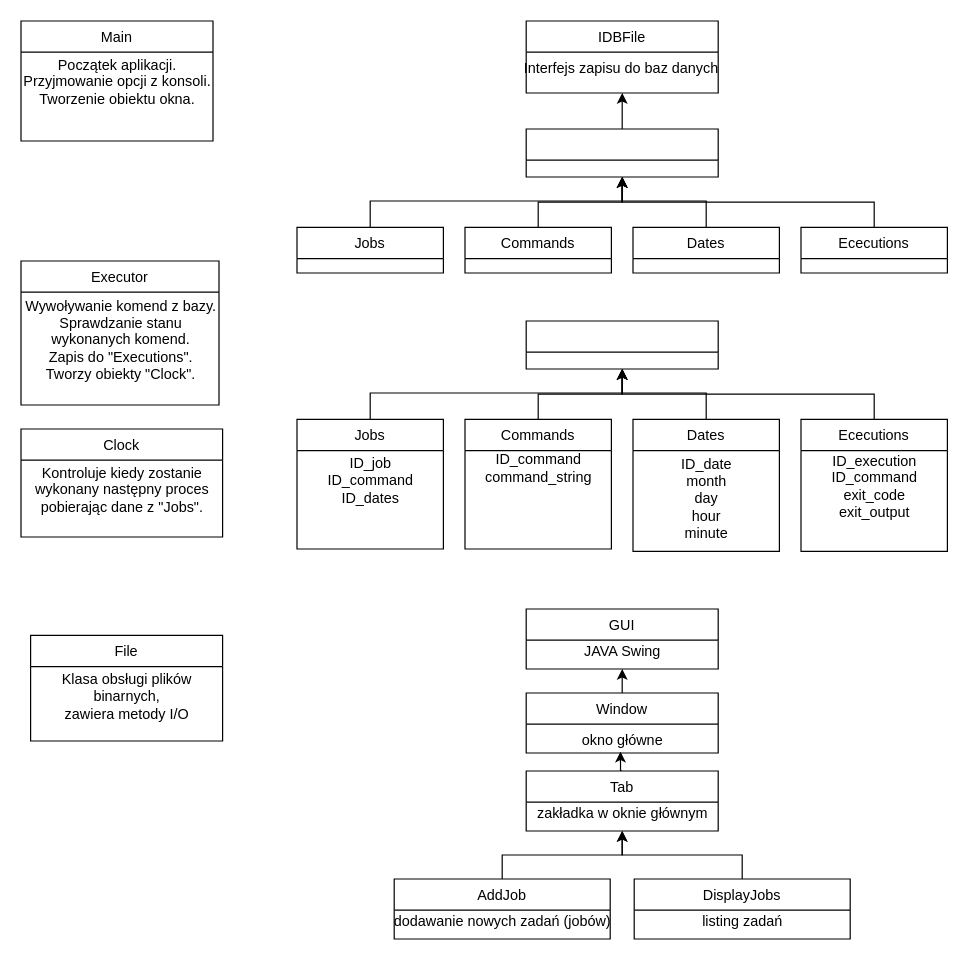
Some shapes in this 968 by 960 pixel diagram are drawn without their labels. Each missing label, with the centre of its shape:
DB: pixel 621 344
DBFile: pixel 621 152
